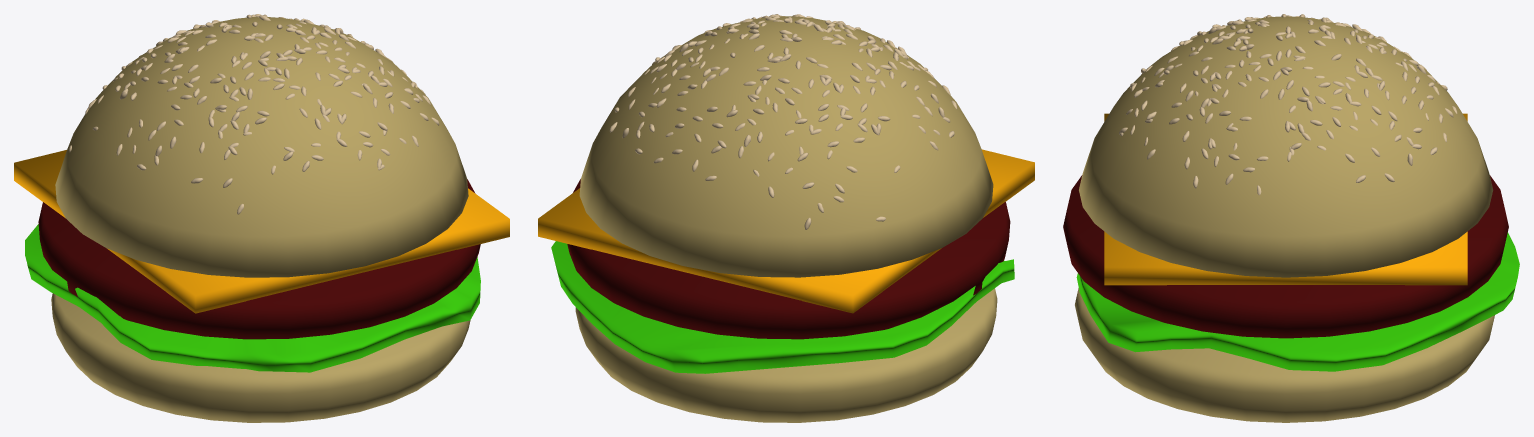
File: Burger_Full.fbx
3 views of the same model, side by side, from view 1: azimuth 30°, elevation 25°; view 2: azimuth 150°, elevation 25°; view 3: azimuth 270°, elevation 25° (orthographic).
Visible parts, largest first — view 1: Sphere.001, Sphere, Sphere.002, Cylinder, Plane; view 2: Sphere.001, Sphere.002, Sphere, Cylinder, Plane; view 3: Sphere.001, Sphere, Sphere.002, Cylinder, Plane.
Boxes of the visible parts, x1,y1,x2,y2 form: Sphere.001: [55, 17, 468, 277]; Sphere: [51, 293, 470, 422]; Sphere.002: [38, 179, 480, 339]; Cylinder: [25, 224, 480, 372]; Plane: [14, 150, 509, 313]; Sphere.001: [579, 16, 993, 277]; Sphere.002: [567, 179, 1010, 339]; Sphere: [575, 288, 997, 422]; Cylinder: [551, 241, 1014, 373]; Plane: [538, 149, 1034, 313]; Sphere.001: [1079, 16, 1493, 277]; Sphere: [1075, 288, 1494, 422]; Sphere.002: [1063, 175, 1508, 338]; Cylinder: [1076, 232, 1519, 371]; Plane: [1104, 113, 1467, 285].
Bounding box in the file's own units: 213 × 160 × 216.
